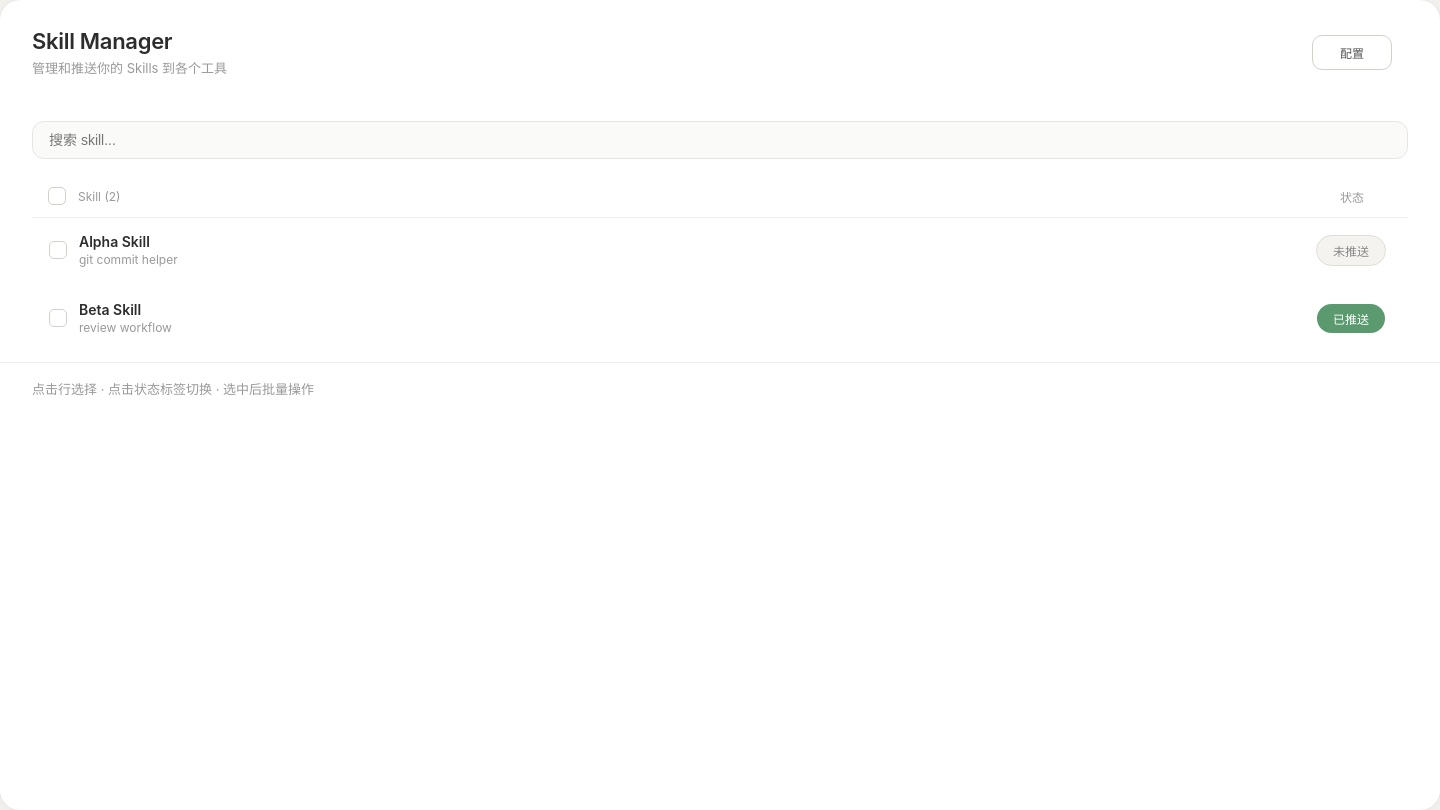
Test case: ManagePage V0.4 Interaction (Integration) › IT-MANAGE-06: 搜索无结果时应展示空结果提示
This screenshot has width=1440, height=810.
Type "not-exist" into the field with placeholder "搜索 skill..." at (720, 140), box left=32, top=121, right=1408, bottom=159
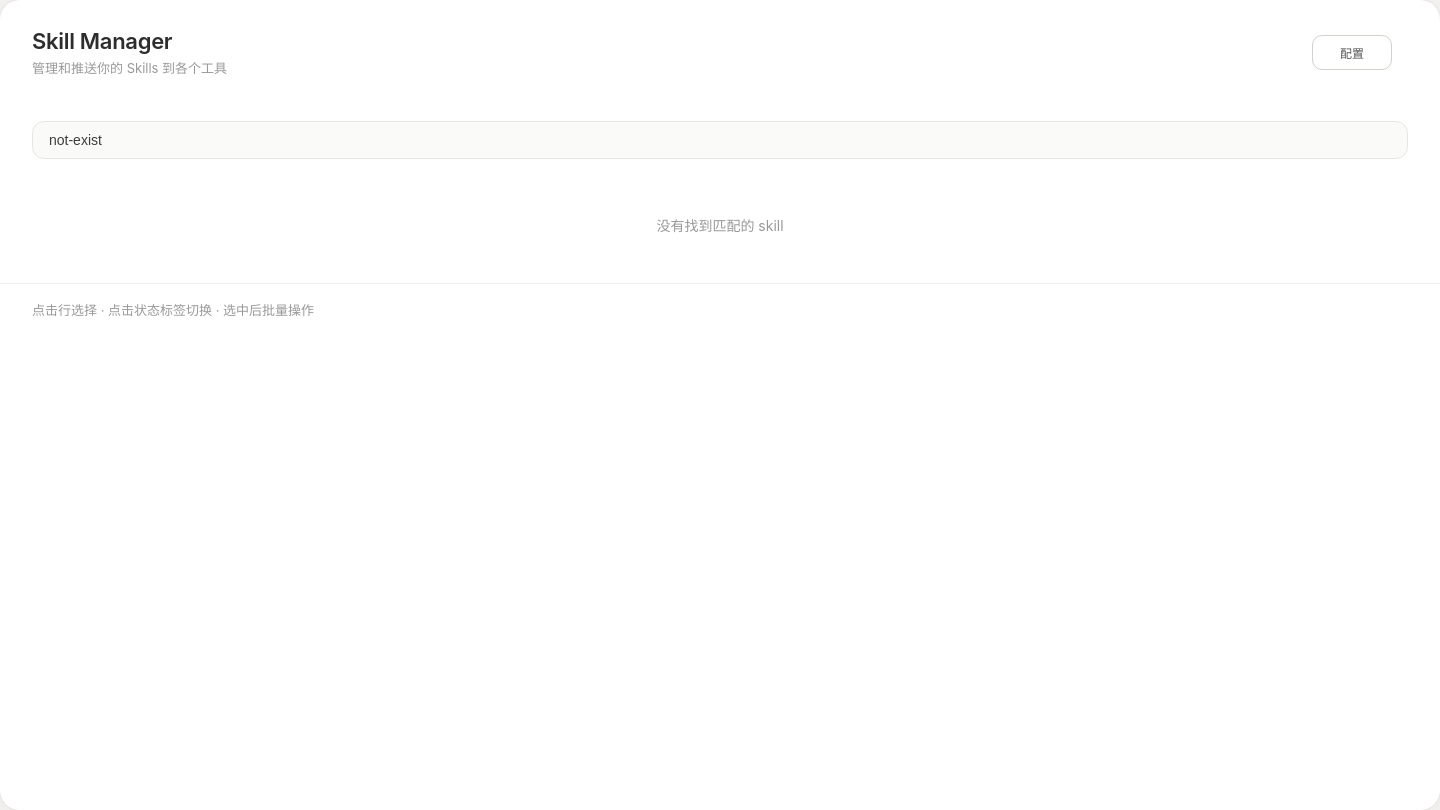
Result: the text "没有找到匹配的 skill" is shown at left=656, top=217, right=784, bottom=234
